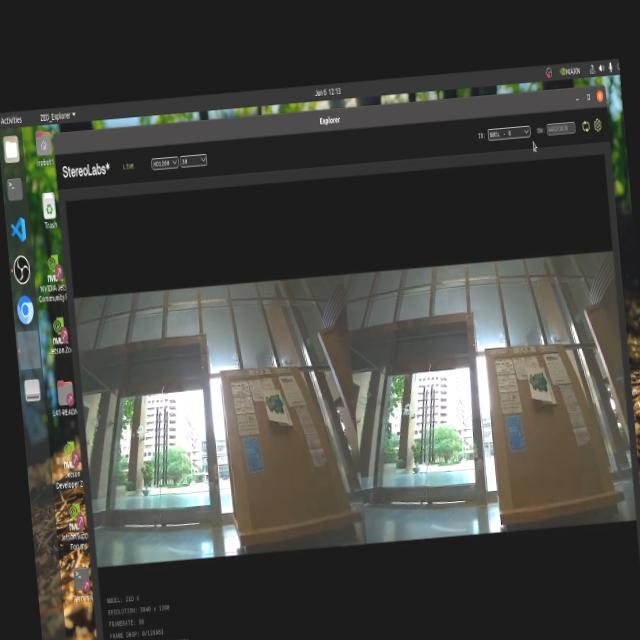green: (264, 388, 284, 416), (530, 366, 548, 396)
